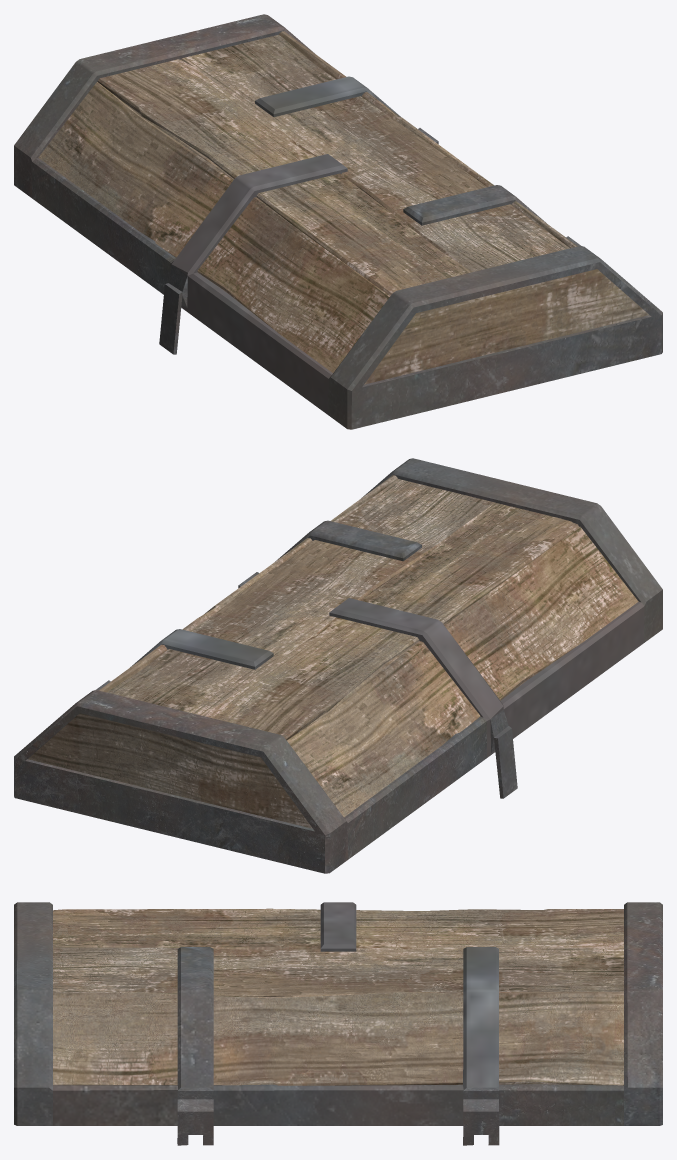
File: SM_Chest_Lid_01.fbx
3 renders of one model, top to bottom at view 1: azimuth 30°, elevation 25°; view 2: azimuth 150°, elevation 25°; view 3: azimuth 270°, elevation 25°, orthographic. The views are drawn at different scales.
Visible parts, largest first — view 1: SM_Chest_Lid_01_LOD0; view 2: SM_Chest_Lid_01_LOD0; view 3: SM_Chest_Lid_01_LOD0.
Boxes of the visible parts, <box> form: SM_Chest_Lid_01_LOD0: <box>14,14,662,429</box>; SM_Chest_Lid_01_LOD0: <box>14,458,662,873</box>; SM_Chest_Lid_01_LOD0: <box>14,902,662,1145</box>.
Bounding box in the file's own units: 55.29 × 92.39 × 22.64.
